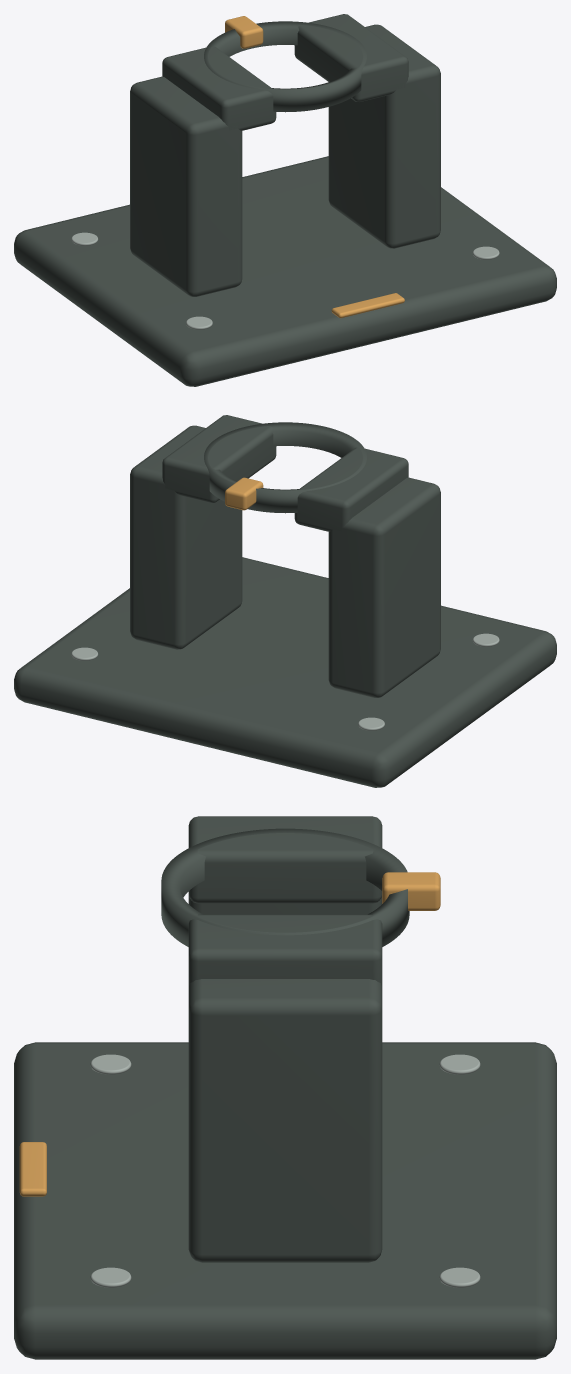
File: holder.glb
3 views of the same model, one above another, from view 1: azimuth 30°, elevation 25°; view 2: azimuth 150°, elevation 25°; view 3: azimuth 270°, elevation 25° (orthographic). The views are drawn at different scales.
Parts seen in each view (by area): view 1: Holder base, Support web, Support web.001, Shoulder support.001, Shoulder support, Keyed seating ring, Index tab, Orientation index; view 2: Holder base, Support web, Support web.001, Shoulder support.001, Shoulder support, Keyed seating ring, Orientation index; view 3: Holder base, Support web.001, Shoulder support, Shoulder support.001, Keyed seating ring, Support web, Orientation index, Index tab, Mount fastener, Mount fastener.001, Mount fastener.002, Mount fastener.003.
Part boxes in pixels (x1,y1,x2,y2): Holder base: (14,156,556,386); Support web: (130,76,242,296); Support web.001: (328,24,440,248); Shoulder support.001: (294,14,408,101); Shoulder support: (162,46,276,130); Keyed seating ring: (204,21,366,112); Index tab: (331,293,404,318); Orientation index: (225,16,263,48); Holder base: (14,557,556,787); Support web: (328,477,440,697); Support web.001: (130,425,242,649); Shoulder support.001: (162,415,276,502); Shoulder support: (294,447,408,531); Keyed seating ring: (204,422,366,513); Orientation index: (225,477,263,510); Holder base: (14,1042,556,1359); Support web.001: (188,979,382,1262); Shoulder support: (188,816,382,903); Shoulder support.001: (188,914,382,986); Keyed seating ring: (161,828,409,946); Support web: (188,895,382,914); Orientation index: (382,872,440,910); Index tab: (19,1142,46,1196); Mount fastener: (439,1054,480,1074); Mount fastener.001: (90,1054,131,1074); Mount fastener.002: (439,1267,480,1287); Mount fastener.003: (90,1267,131,1287).
Size of the model in its own units: 34 by 19.85 by 28.
